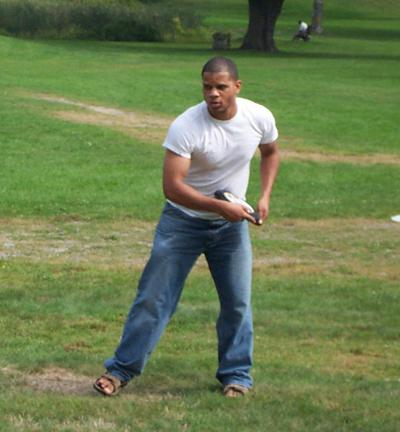person: (93, 57, 280, 400)
